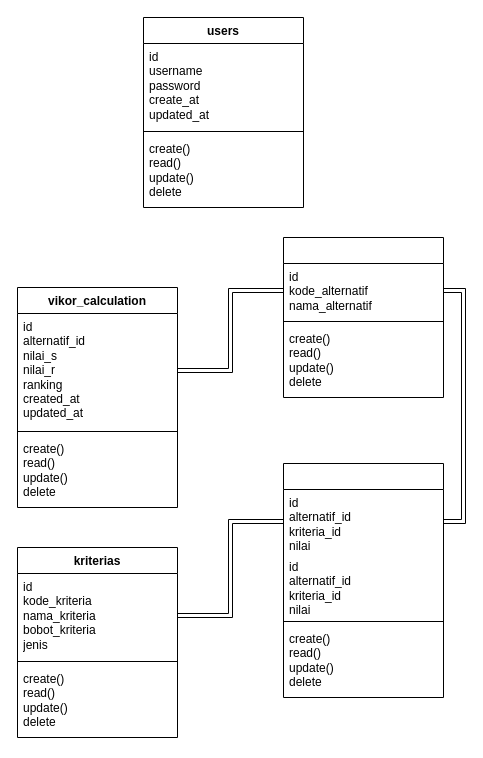
Image size: 483x758. Some labels were removed from this diagram. Here are the shapes that lost their labels. From the top down, the box of each, then its label:
(282, 236, 444, 398): alternatifs
(282, 462, 444, 698): penilaians
